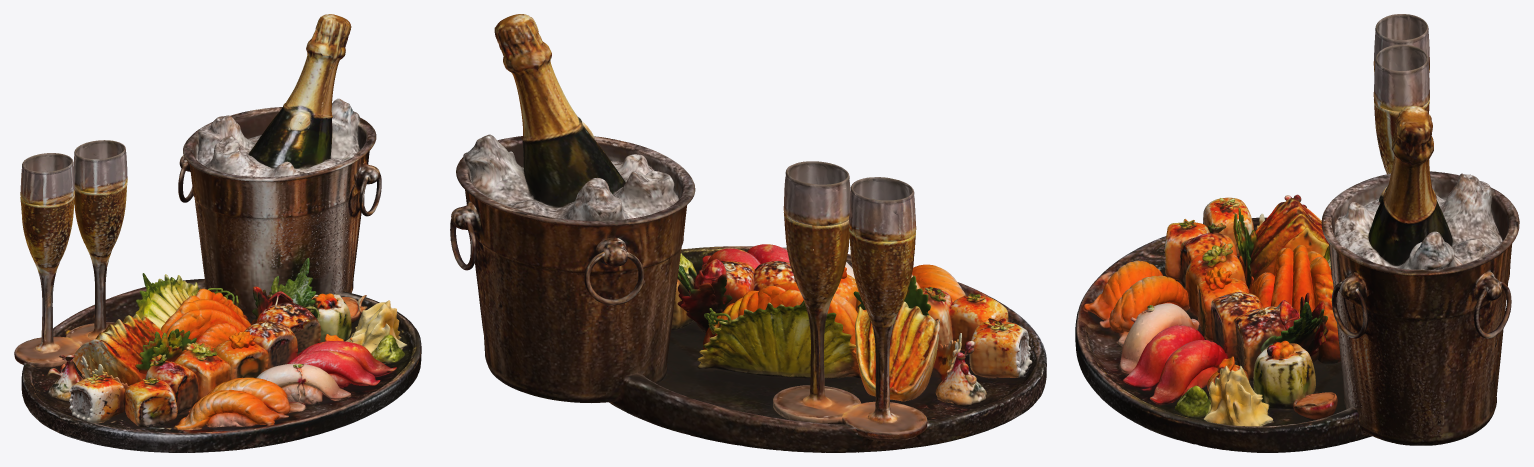
The model's file is menuAR-sushi-55x45x38cm-OTIMIZADO.glb.
The picture shows the model from 3 angles, left to right: view 1: azimuth 30°, elevation 25°; view 2: azimuth 150°, elevation 25°; view 3: azimuth 270°, elevation 25°; orthographic projection. The views are drawn at different scales.
Visible parts, largest first — view 1: sushi; view 2: sushi; view 3: sushi.
Part boxes in pixels (box(x1,y1,x2,y2)): sushi: box(14, 14, 421, 452); sushi: box(450, 14, 1046, 452); sushi: box(1075, 14, 1519, 452).
Bounding box in the file's own units: 0.55 × 0.38 × 0.45.
1 material, 1 textured.
